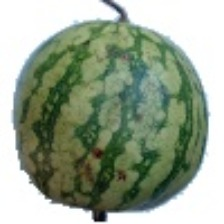watermelon: (21, 65, 216, 204)
